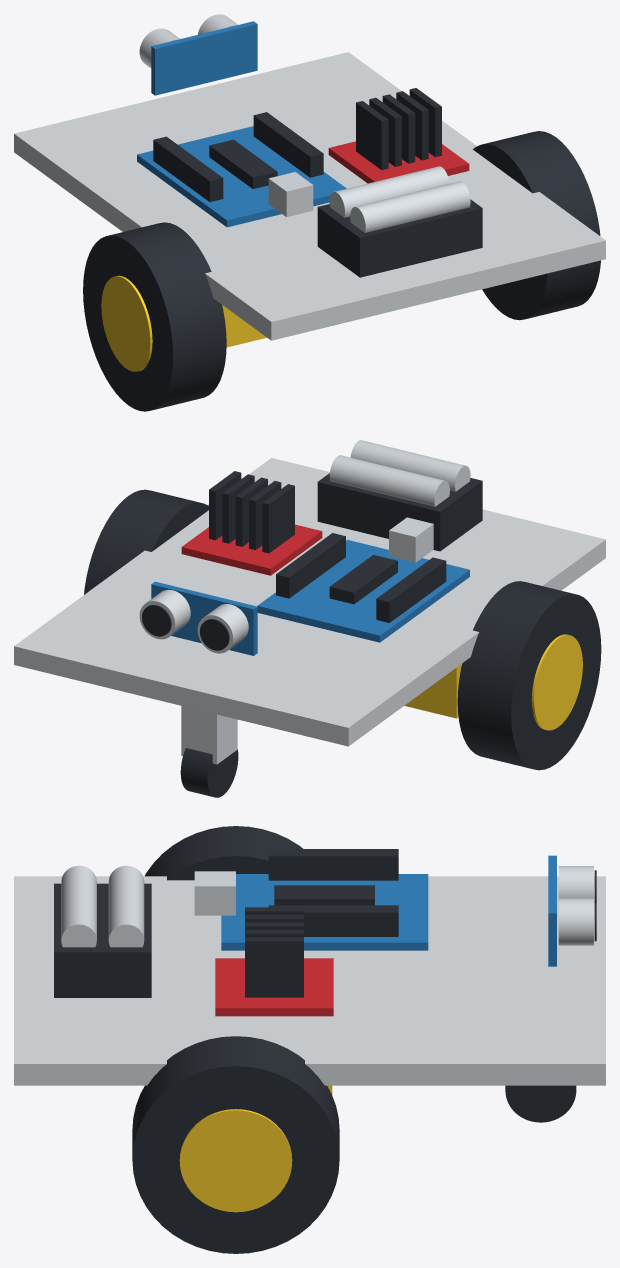
File: robo-chassis__model3d__robot-car-educational.glb
The picture shows the model from 3 angles, top to bottom: view 1: azimuth 30°, elevation 25°; view 2: azimuth 150°, elevation 25°; view 3: azimuth 270°, elevation 25°; orthographic projection. The views are drawn at different scales.
Parts seen in each view (by area): view 1: Chassis, Left tire, Right tire, Battery holder, Microcontroller board, Ultrasonic board, Left hub, Battery 1, Battery -1, Motor driver PCB, Pin header -0.05, Pin header -0.005 (+9 smaller); view 2: Chassis, Left tire, Microcontroller board, Battery holder, Right tire, Left hub, Battery -1, Motor driver PCB, Battery 1, Caster bracket, Ultrasonic board, Pin header -0.05 (+14 smaller); view 3: Chassis, Right tire, Right hub, Microcontroller board, Battery holder, Left tire, Motor driver PCB, Pin header -0.05, Heatsink fin 4, Pin header -0.005, Battery -1, Battery 1 (+6 smaller).
Part boxes in pixels (<box>): Chassis: <box>14,52,605,340</box>; Left tire: <box>83,222,226,411</box>; Right tire: <box>473,131,600,320</box>; Battery holder: <box>317,199,482,277</box>; Microcontroller board: <box>137,126,346,227</box>; Ultrasonic board: <box>151,21,257,95</box>; Left hub: <box>101,275,152,371</box>; Battery 1: <box>350,181,470,232</box>; Battery -1: <box>329,166,449,217</box>; Motor driver PCB: <box>328,141,469,183</box>; Pin header -0.05: <box>153,136,223,201</box>; Pin header -0.005: <box>253,112,323,177</box>; Chassis: <box>14,458,605,746</box>; Left tire: <box>457,581,601,770</box>; Microcontroller board: <box>257,540,469,642</box>; Battery holder: <box>317,473,482,551</box>; Right tire: <box>84,489,208,594</box>; Left hub: <box>531,634,582,730</box>; Battery -1: <box>329,455,449,506</box>; Motor driver PCB: <box>181,524,322,575</box>; Battery 1: <box>350,440,470,491</box>; Caster bracket: <box>181,706,237,764</box>; Ultrasonic board: <box>151,581,257,655</box>; Pin header -0.05: <box>376,557,446,622</box>; Chassis: <box>14,876,605,1085</box>; Right tire: <box>132,1036,339,1253</box>; Right hub: <box>179,1109,292,1212</box>; Microcontroller board: <box>221,874,428,950</box>; Battery holder: <box>54,883,151,997</box>; Left tire: <box>145,826,302,880</box>; Motor driver PCB: <box>215,958,333,1016</box>; Pin header -0.05: <box>268,849,398,880</box>; Heatsink fin 4: <box>245,937,303,997</box>; Pin header -0.005: <box>268,905,398,936</box>; Battery -1: <box>108,865,144,947</box>; Battery 1: <box>61,865,96,947</box>.
Bounding box in the file's own units: 0.194 × 0.0935 × 0.2.
